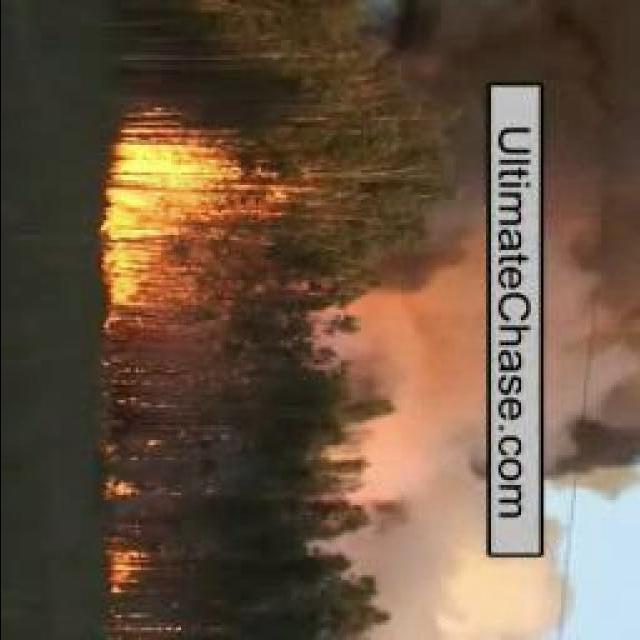Fire: (107, 111, 269, 331), (102, 431, 164, 508), (107, 548, 145, 598)
